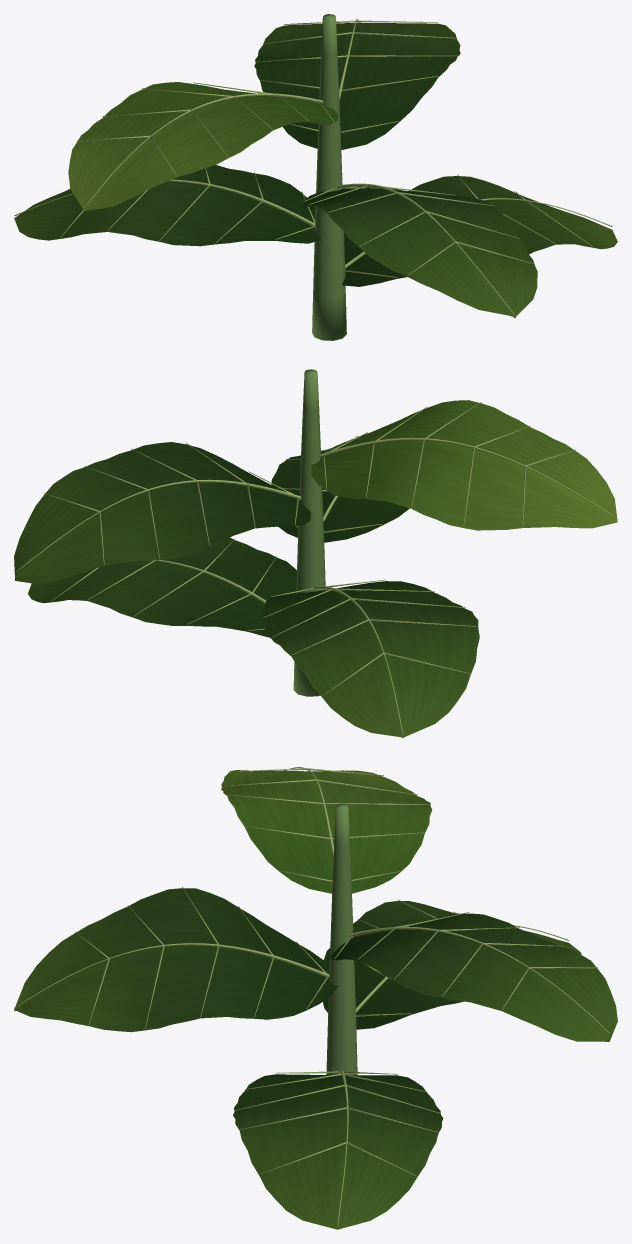
The model's file is daisy-04.glb.
3 views of the same model, one above another, from view 1: azimuth 30°, elevation 25°; view 2: azimuth 150°, elevation 25°; view 3: azimuth 270°, elevation 25° (orthographic).
Visible parts, largest first — view 1: daisy_stage_04_leaf_veins.006, daisy_stage_04_young_leaf.006, daisy_stage_04_stem_fibres.006, daisy_stage_04_raised_midveins.006; view 2: daisy_stage_04_leaf_veins.006, daisy_stage_04_young_leaf.006, daisy_stage_04_raised_midveins.006, daisy_stage_04_stem_fibres.006; view 3: daisy_stage_04_leaf_veins.006, daisy_stage_04_young_leaf.006, daisy_stage_04_raised_midveins.006, daisy_stage_04_stem_fibres.006.
Part boxes in pixels (x1,y1,x2,y2): daisy_stage_04_leaf_veins.006: (14,22,617,318); daisy_stage_04_young_leaf.006: (68,82,338,211); daisy_stage_04_stem_fibres.006: (312,14,346,340); daisy_stage_04_raised_midveins.006: (14,19,612,315); daisy_stage_04_leaf_veins.006: (14,433,479,737); daisy_stage_04_young_leaf.006: (311,400,617,530); daisy_stage_04_raised_midveins.006: (15,402,617,735); daisy_stage_04_stem_fibres.006: (293,369,325,696); daisy_stage_04_leaf_veins.006: (14,888,617,1229); daisy_stage_04_young_leaf.006: (221,770,432,893); daisy_stage_04_raised_midveins.006: (14,767,609,1226); daisy_stage_04_stem_fibres.006: (326,803,357,1075).
Size of the model in its own units: 0.1468 by 0.0798 by 0.1358.
Materials: 4 (2 with a texture image).
